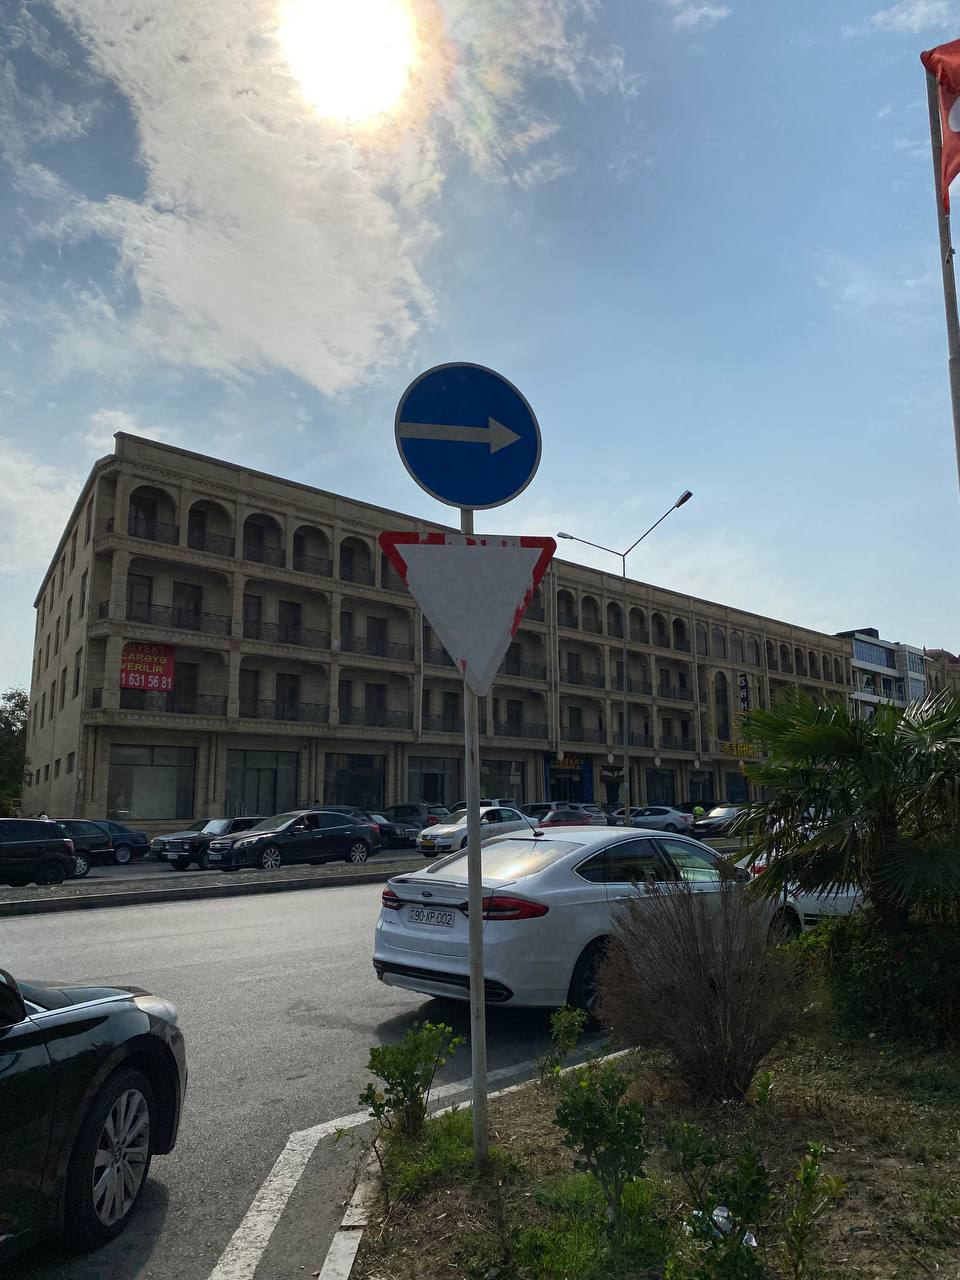Turn Right: (395, 362, 543, 510)
